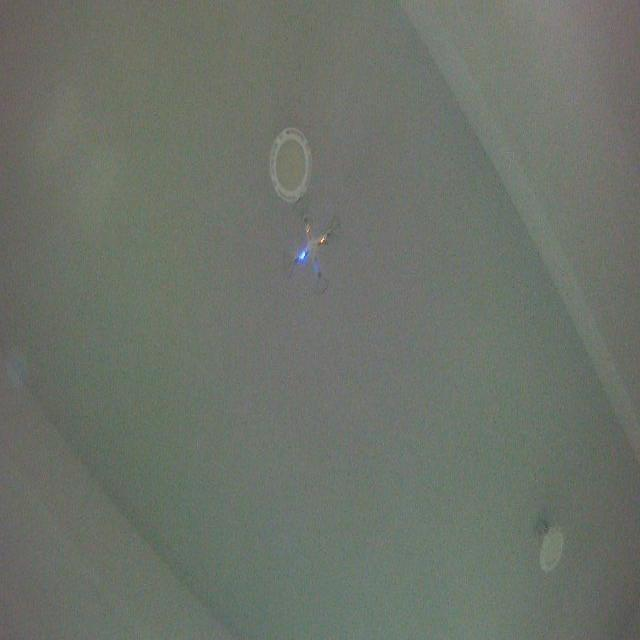drone: (280, 194, 344, 297)
